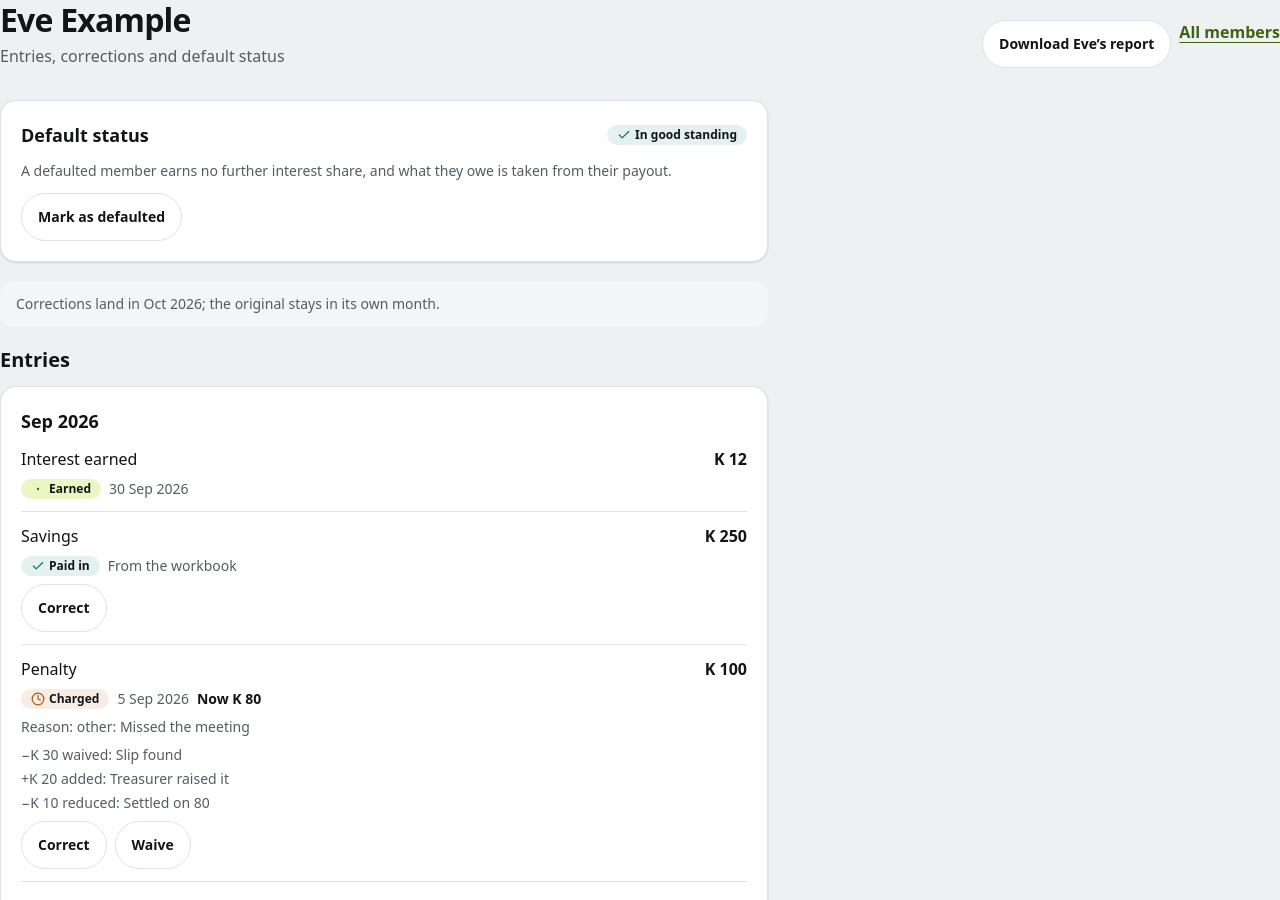
Test: Correct opens the sheet with what it is now, and Waive with how much is still charged
The width and height of the screenshot is (1280, 900).
Click the button with aria-label "Correct Penalty K 100 from Sep 2026, 5 Sep 2026" at (64, 845), box [21,821,107,869]
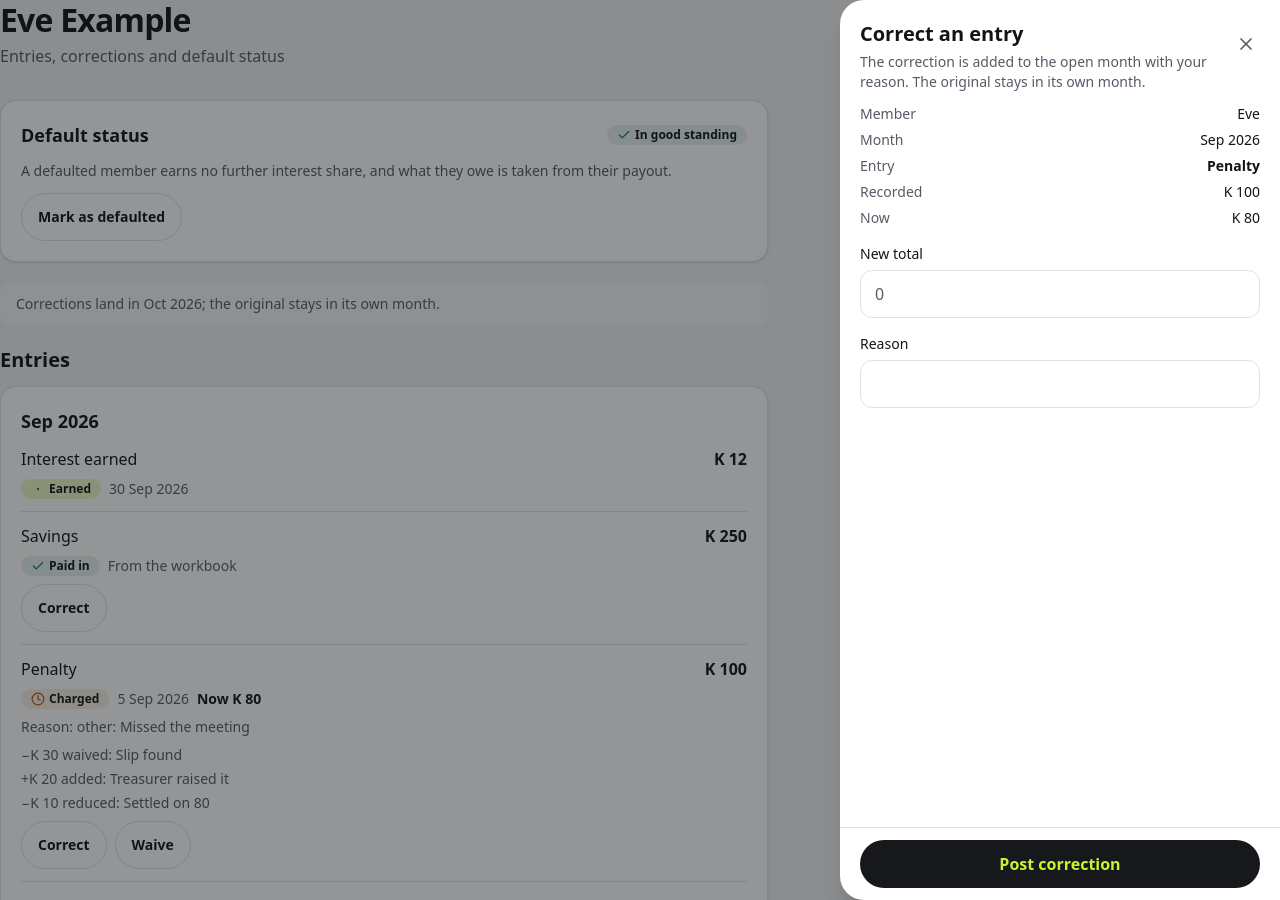
Expected: the dialog "Correct an entry" is shown, [840,0,1279,899]
Expected: the text "K 80" is shown, [1232,208,1260,227]
Click the button named "Close" at (1246, 44), box [1233,20,1260,68]
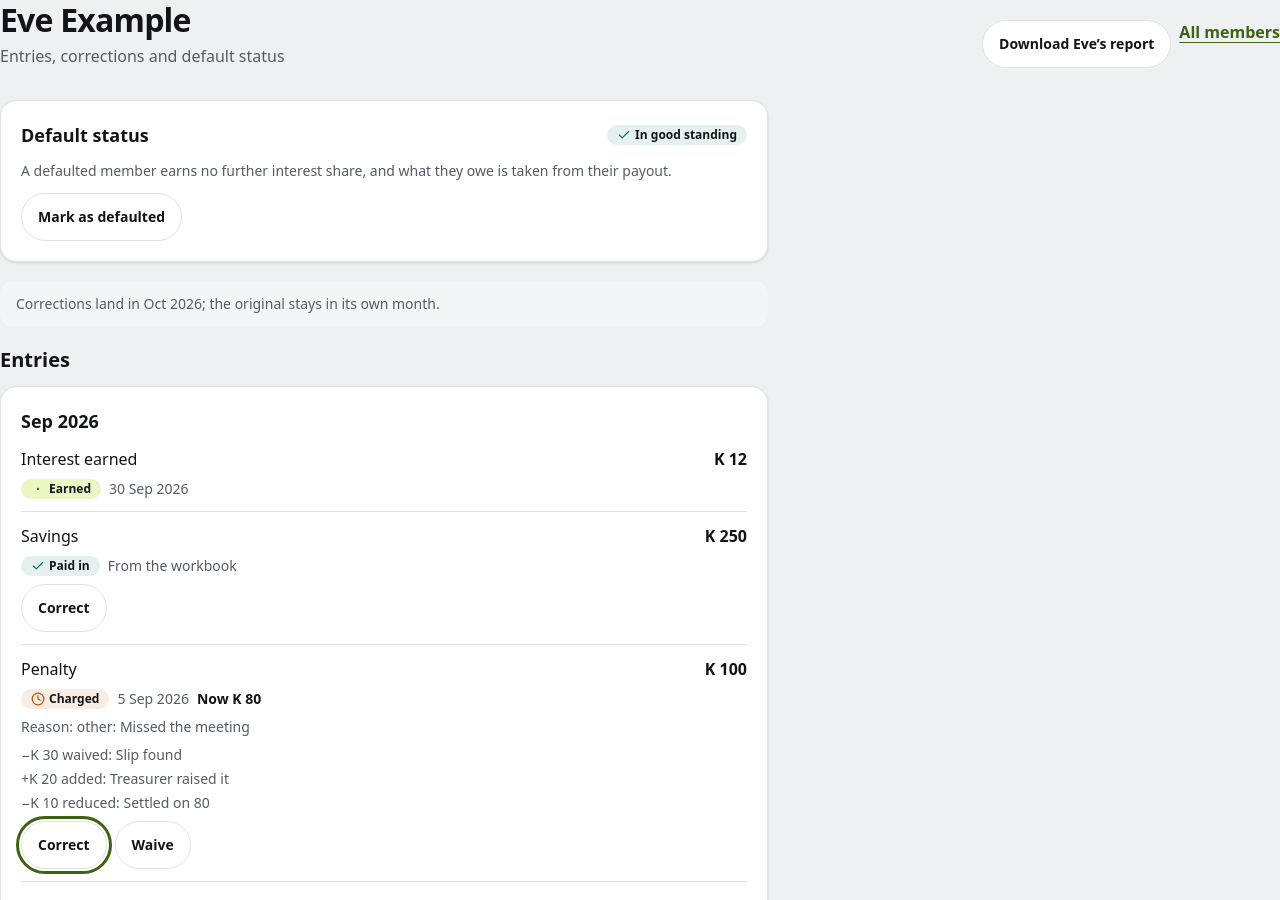
Click the button with aria-label "Waive Penalty K 100 from Sep 2026, 5 Sep 2026" at (153, 845), box [115,821,191,869]
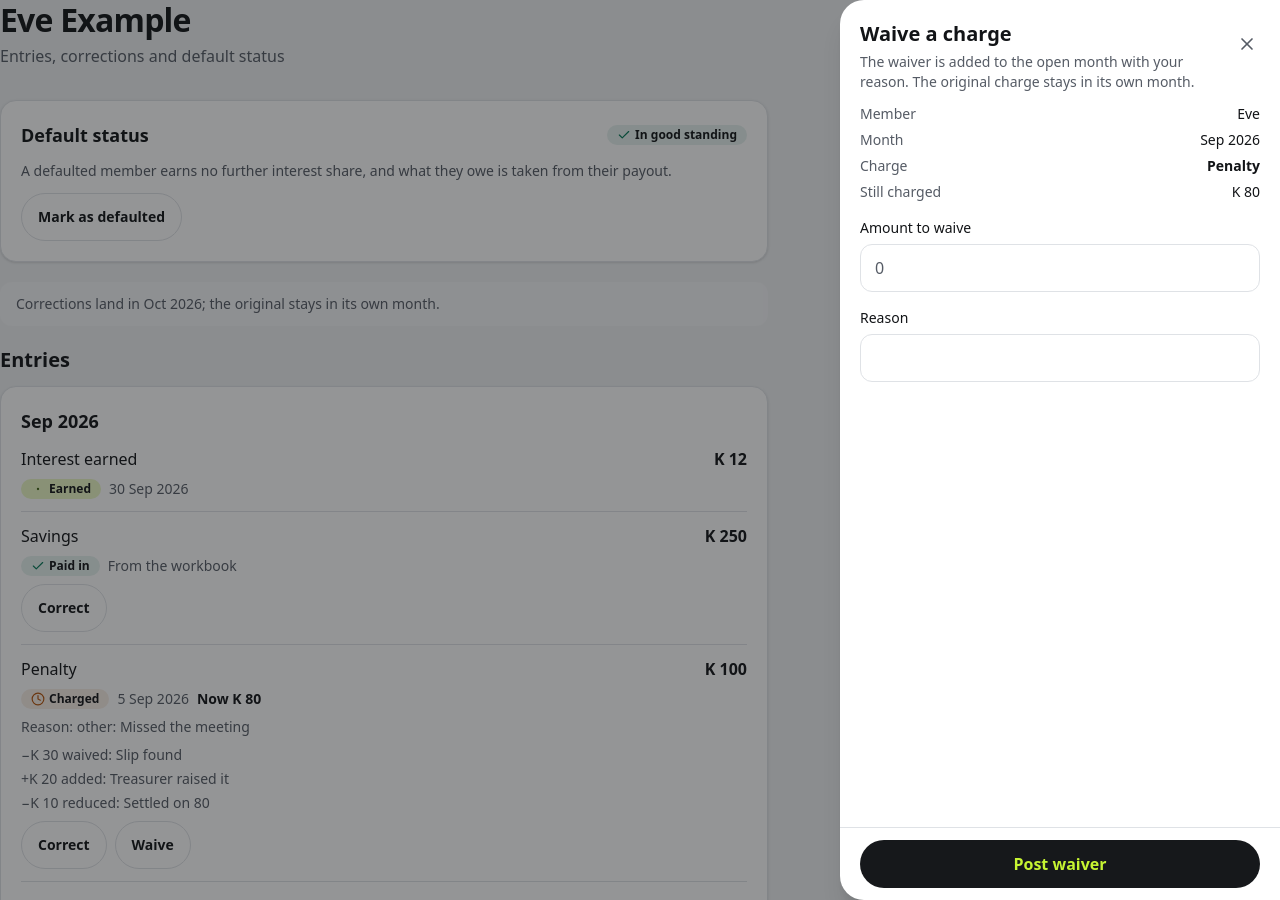
Expected: the dialog "Waive a charge" is shown, [840,0,1279,899]
Expected: the text "K 80" is shown, [1232,182,1260,201]
